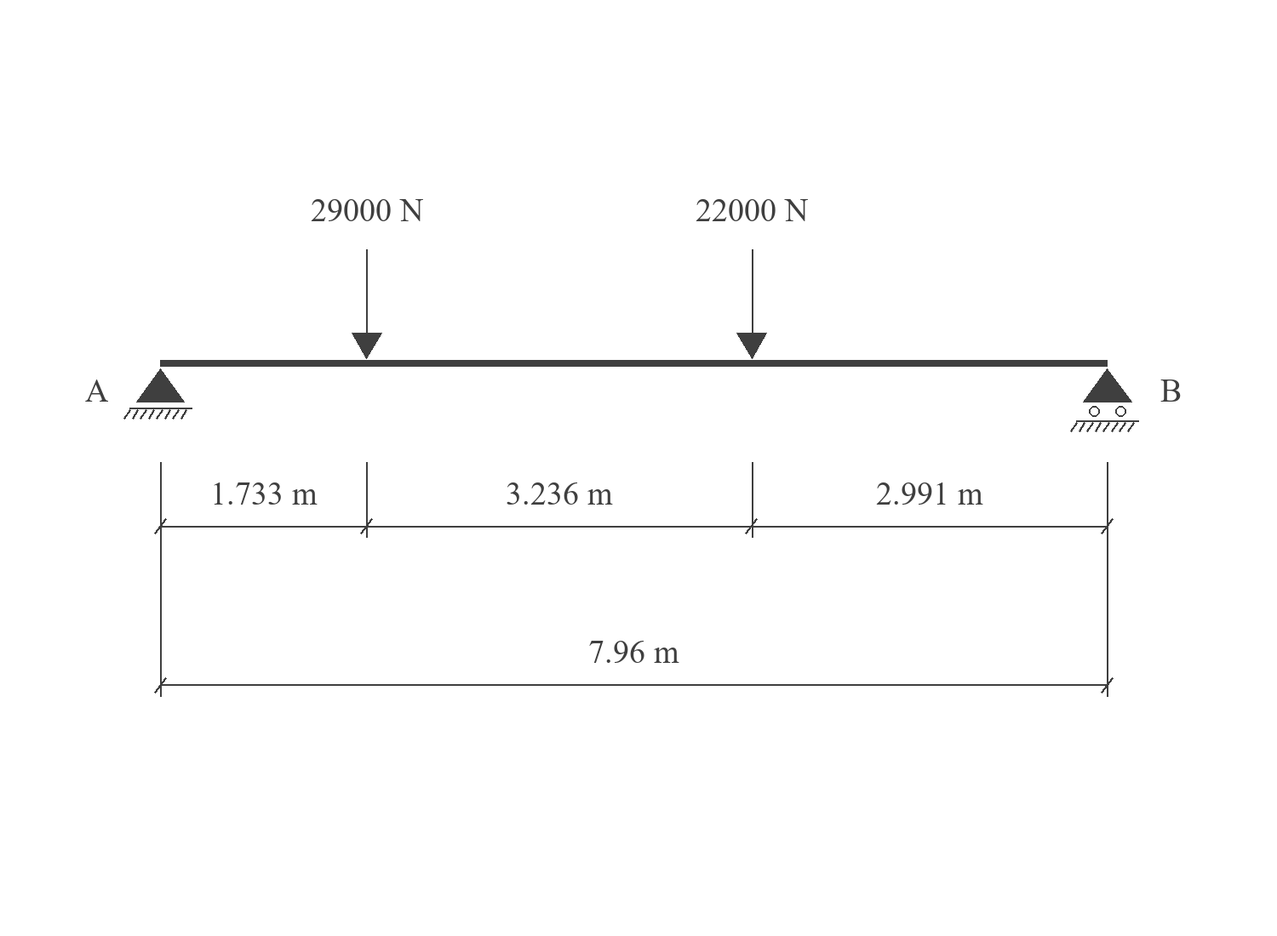pin_support: (123, 368, 192, 419)
point_load: (736, 249, 767, 359), (352, 249, 382, 359)
roller_support: (1070, 368, 1139, 432)
